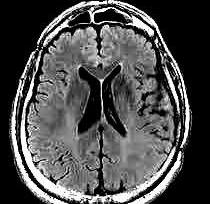Normal_Brain: (1, 1, 210, 204)
